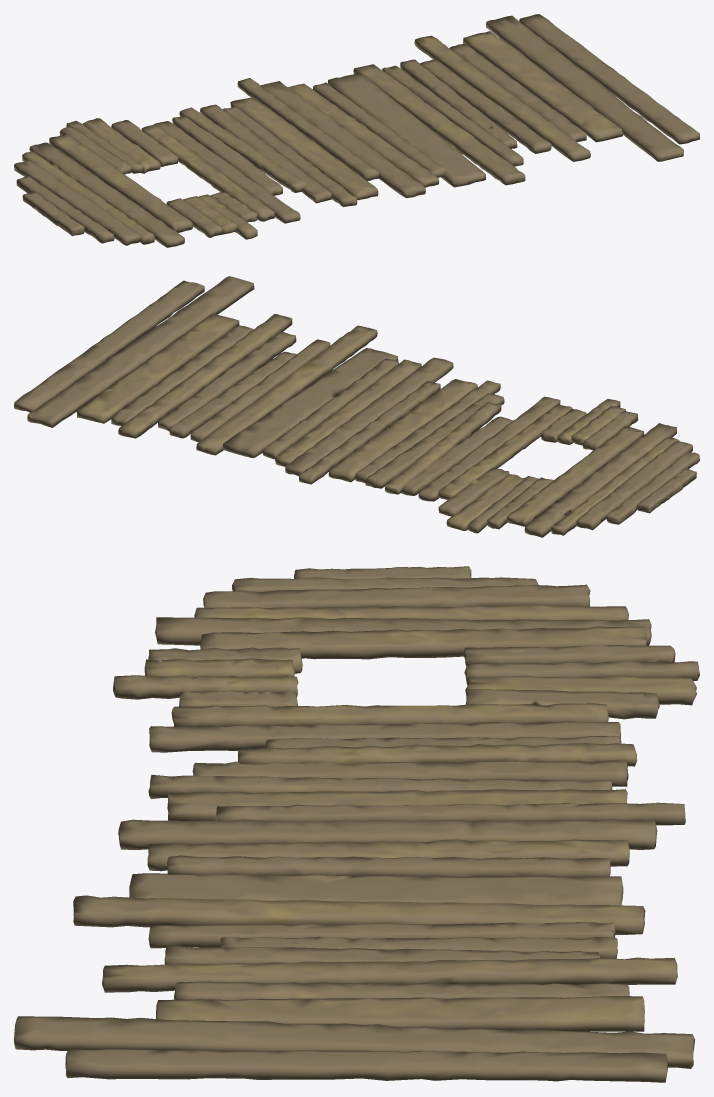
The model's file is Floor01.fbx.
3 renders of one model, top to bottom at view 1: azimuth 30°, elevation 25°; view 2: azimuth 150°, elevation 25°; view 3: azimuth 270°, elevation 25°, orthographic. The views are drawn at different scales.
Visible parts, largest first — view 1: Floor1; view 2: Floor1; view 3: Floor1.
Part boxes in pixels (x1,y1,x2,y2): Floor1: (14,14,699,247); Floor1: (14,276,699,537); Floor1: (14,566,699,1082).
Bounding box in the file's own units: 752 × 18.78 × 427.
